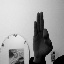f: (32, 8, 54, 55)
